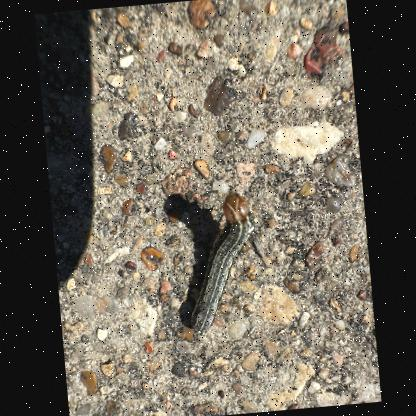Fall Armyworm Larvae: (175, 186, 273, 341)
